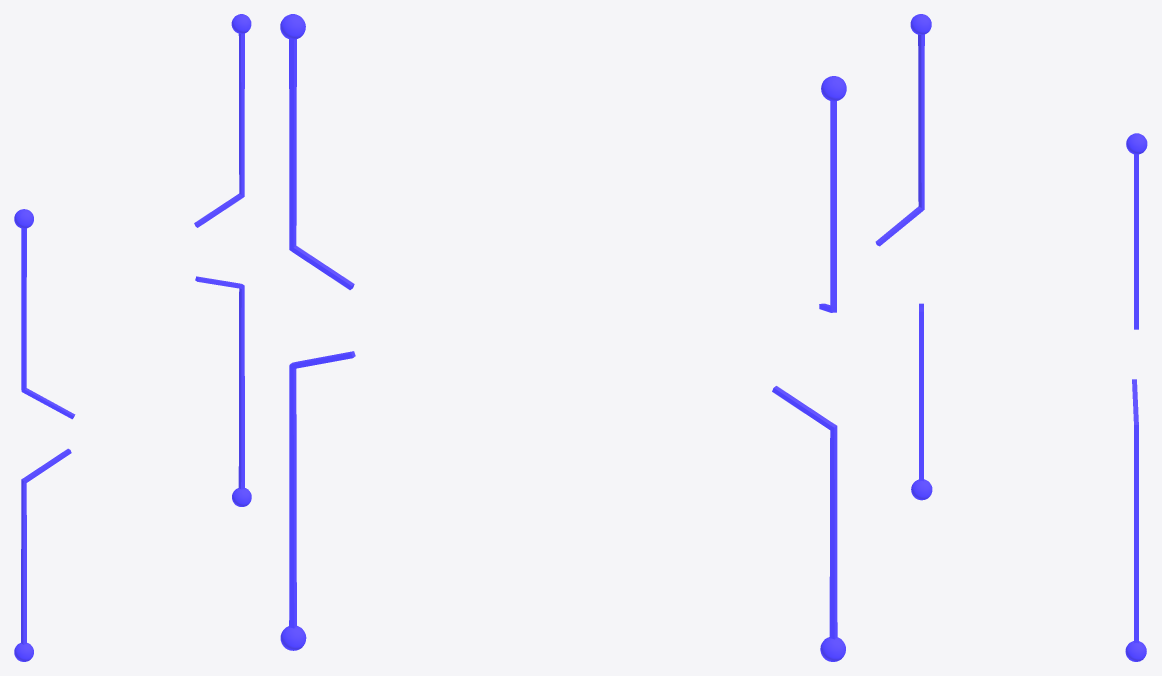
Rendered from SegnPortraitSocial5.gltf.
The picture shows the model from 3 angles, left to right: view 1: azimuth 30°, elevation 25°; view 2: azimuth 150°, elevation 25°; view 3: azimuth 270°, elevation 25°; orthographic projection. The views are drawn at different scales.
Visible parts, largest first — view 1: ListnerModuli.010; view 2: ListnerModuli.010; view 3: ListnerModuli.010.
Part boxes in pixels (bbox=[...]): ListnerModuli.010: bbox=[14, 14, 251, 661]; ListnerModuli.010: bbox=[280, 14, 846, 661]; ListnerModuli.010: bbox=[875, 14, 1147, 661].
Size of the model in its own units: 0.8172 by 1.15 by 0.5355.
